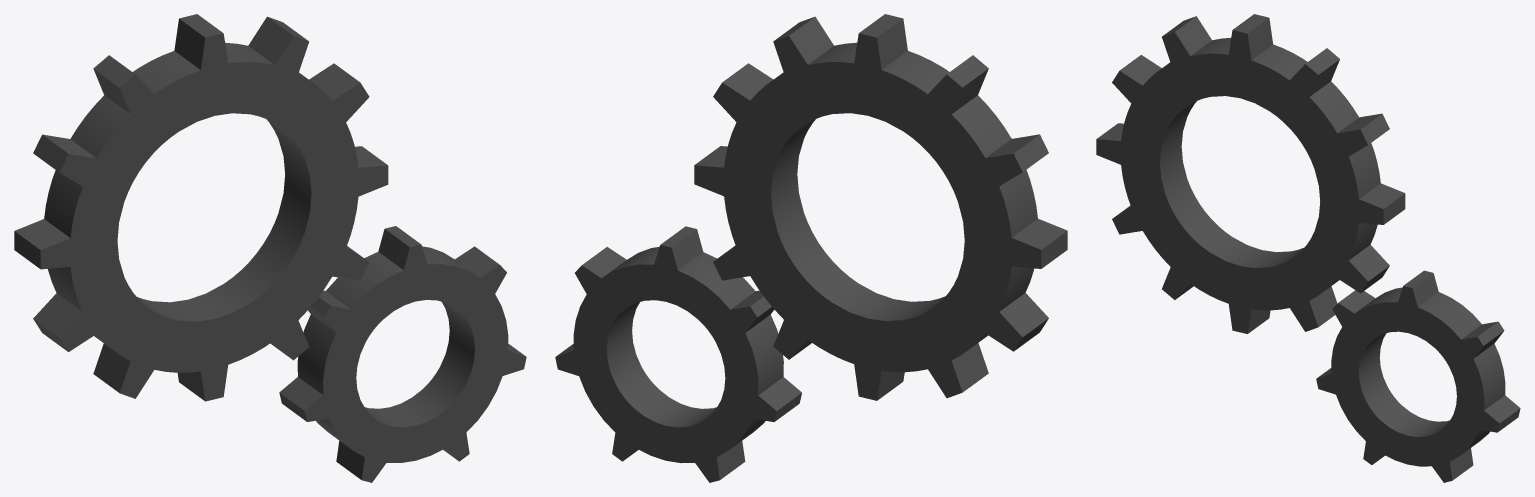
Rendered from dll3d.glb.
The picture shows the model from 3 angles, left to right: view 1: azimuth 30°, elevation 25°; view 2: azimuth 150°, elevation 25°; view 3: azimuth 330°, elevation 25°; orthographic projection. The views are drawn at different scales.
Parts seen in each view (by area): view 1: node_id5, node_id7; view 2: node_id5, node_id7; view 3: node_id5, node_id7.
Boxes of the visible parts, x1,y1,x2,y2 form: node_id5: (14, 14, 388, 401); node_id7: (279, 226, 526, 482); node_id5: (694, 14, 1067, 400); node_id7: (555, 226, 801, 482); node_id5: (1096, 14, 1405, 333); node_id7: (1316, 270, 1520, 482).
Bounding box in the file's own units: 0.512 × 0.4891 × 0.0481.
Materials: 2 (2 with a texture image).
